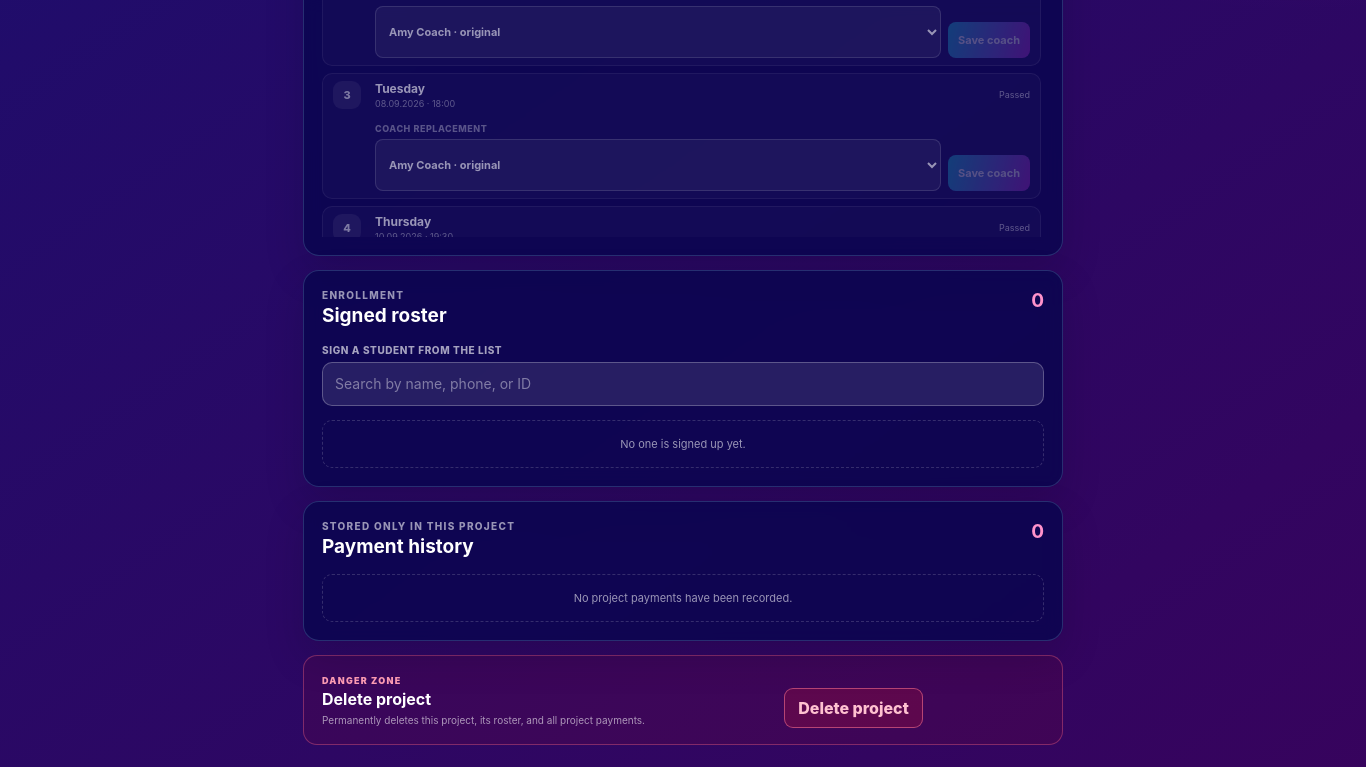
Test: ProjectDetailPage › loads only the exact project collections and signs a searched student transactionally
(page scrolled)
Expected: the text "No one is signed up yet." is shown, [322,420,1044,468]
Step 1. Type "Alice" into the search field labelled "Sign a student from the list" → (683, 384), box [322,362,1044,406]
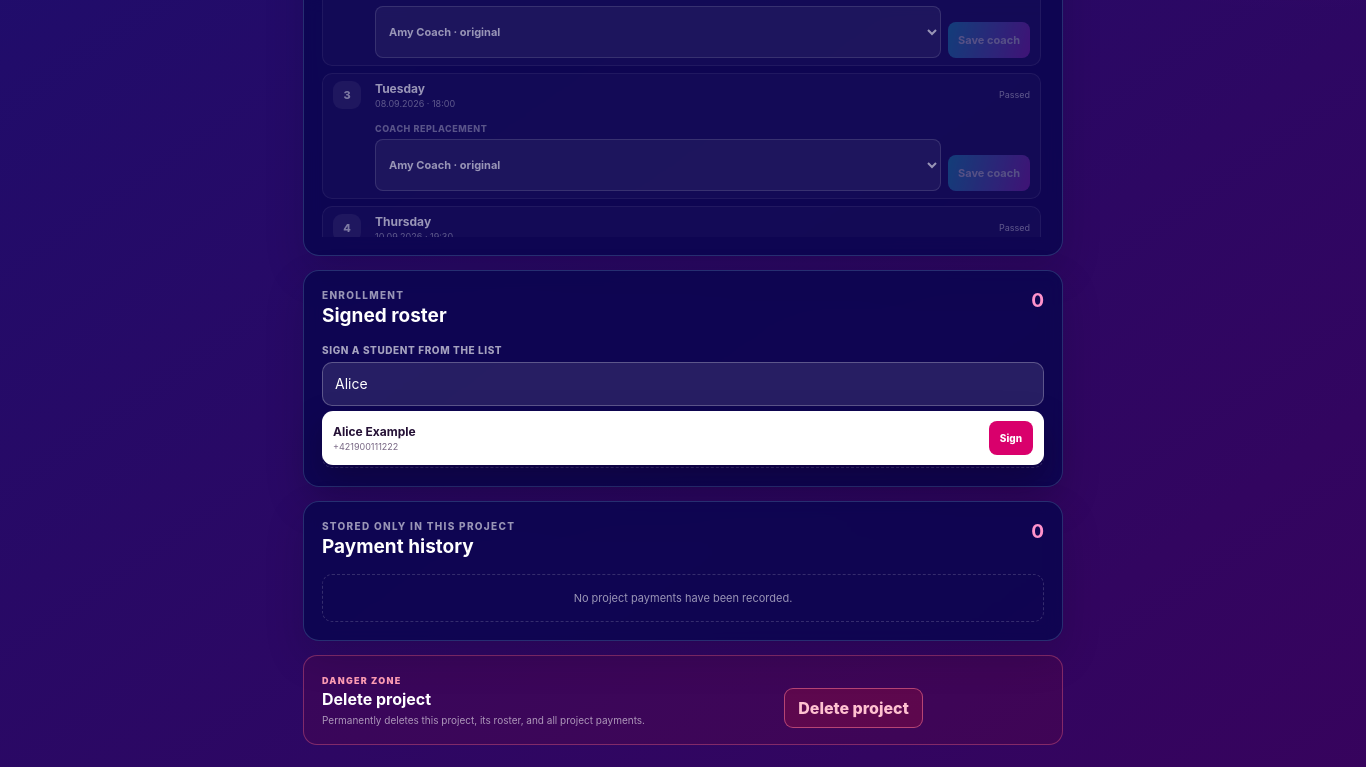
Step 2. Click the button "Sign" → (1011, 438), box [989,421,1033,455]
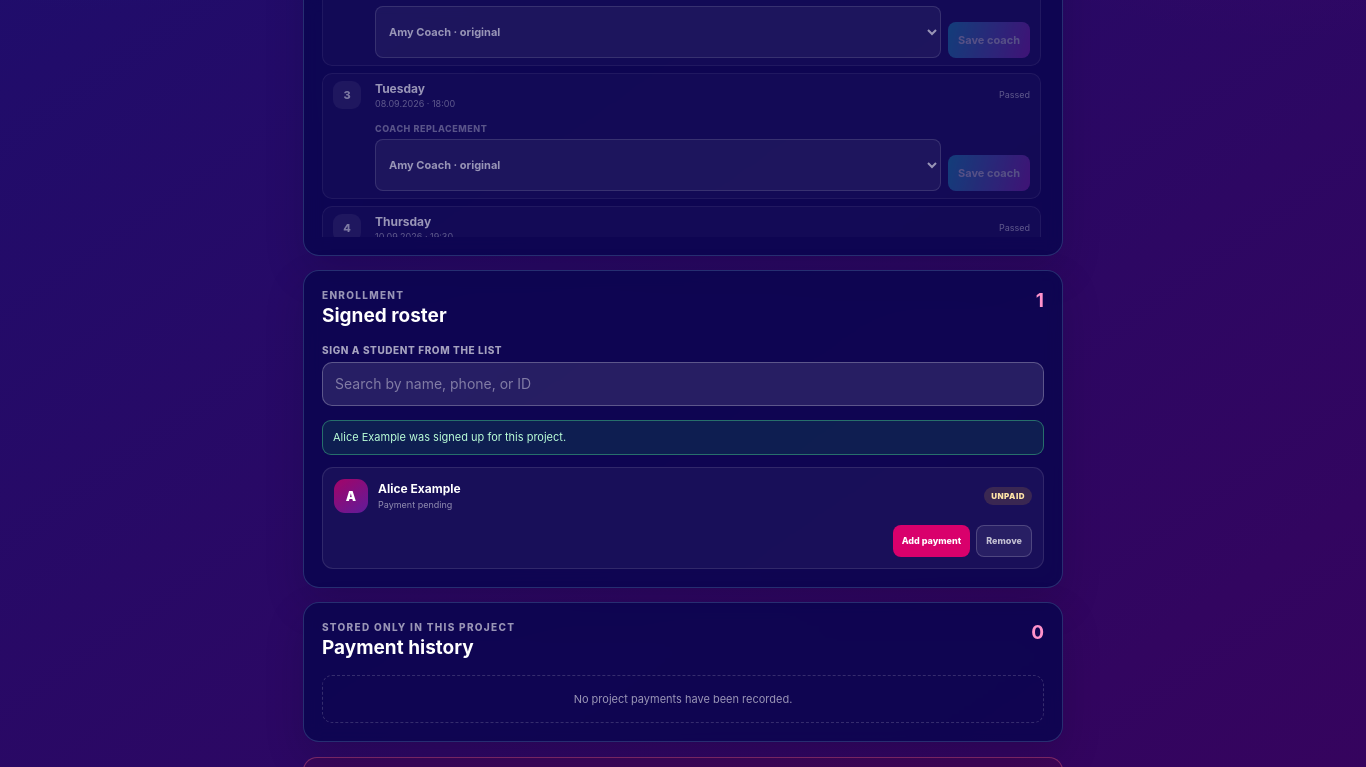
Result: the text "Alice Example was signed up for this project." is shown at [322,420,1044,455]
